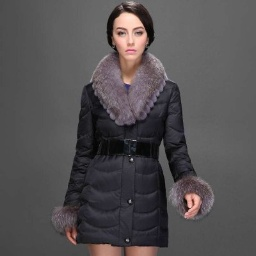face: (99, 1, 167, 71)
